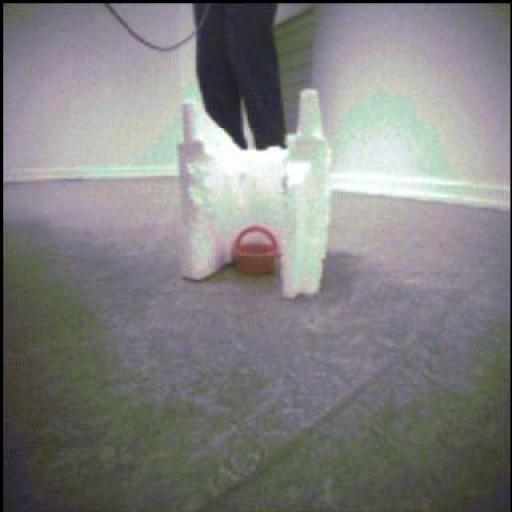Bucket: (236, 222, 285, 282)
